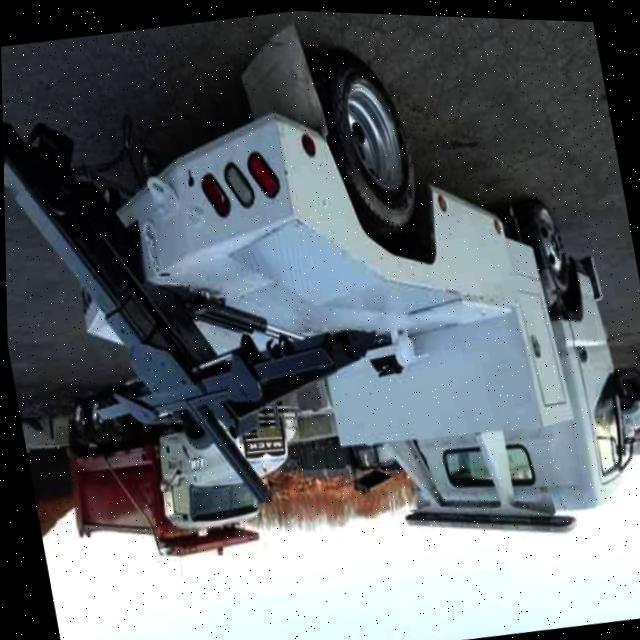truck: (0, 0, 640, 614), (49, 347, 318, 583)
